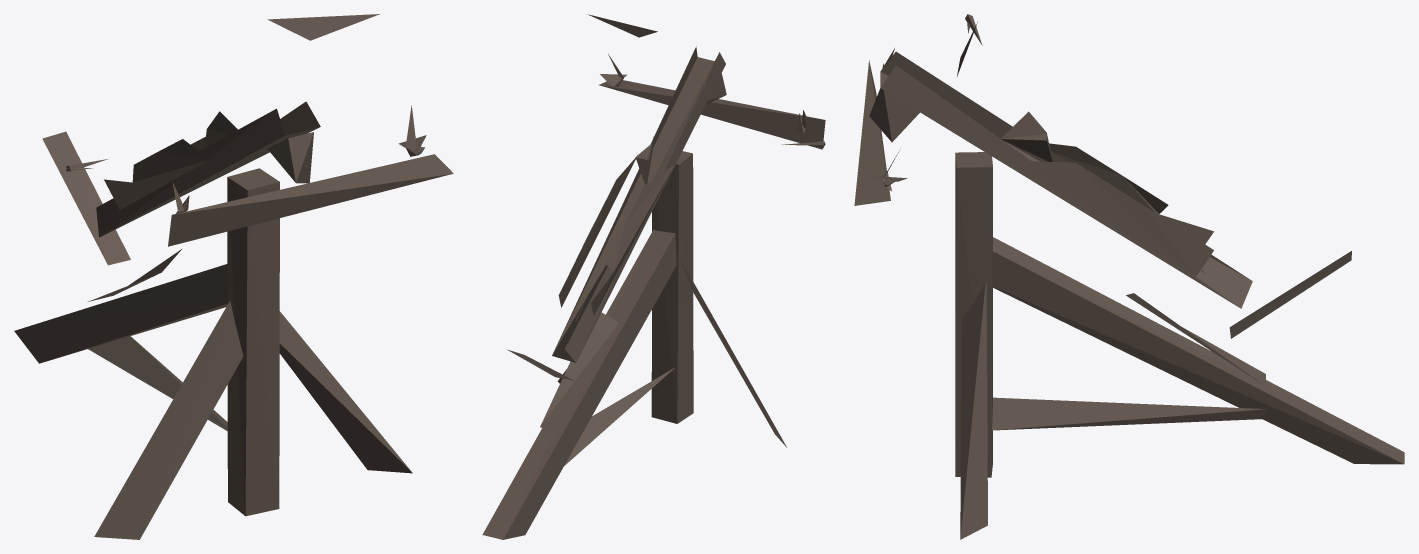
File: ballista.lod2.glb
3 views of the same model, side by side, from view 1: azimuth 30°, elevation 25°; view 2: azimuth 150°, elevation 25°; view 3: azimuth 270°, elevation 25° (orthographic). The views are drawn at different scales.
Parts seen in each view (by area): view 1: defaultMaterial; view 2: defaultMaterial; view 3: defaultMaterial.
Part boxes in pixels (x1,y1,x2,y2): defaultMaterial: (14, 14, 453, 539); defaultMaterial: (482, 14, 825, 539); defaultMaterial: (854, 14, 1404, 539).
Size of the model in its own units: 1.63 by 2.2 by 2.4.
